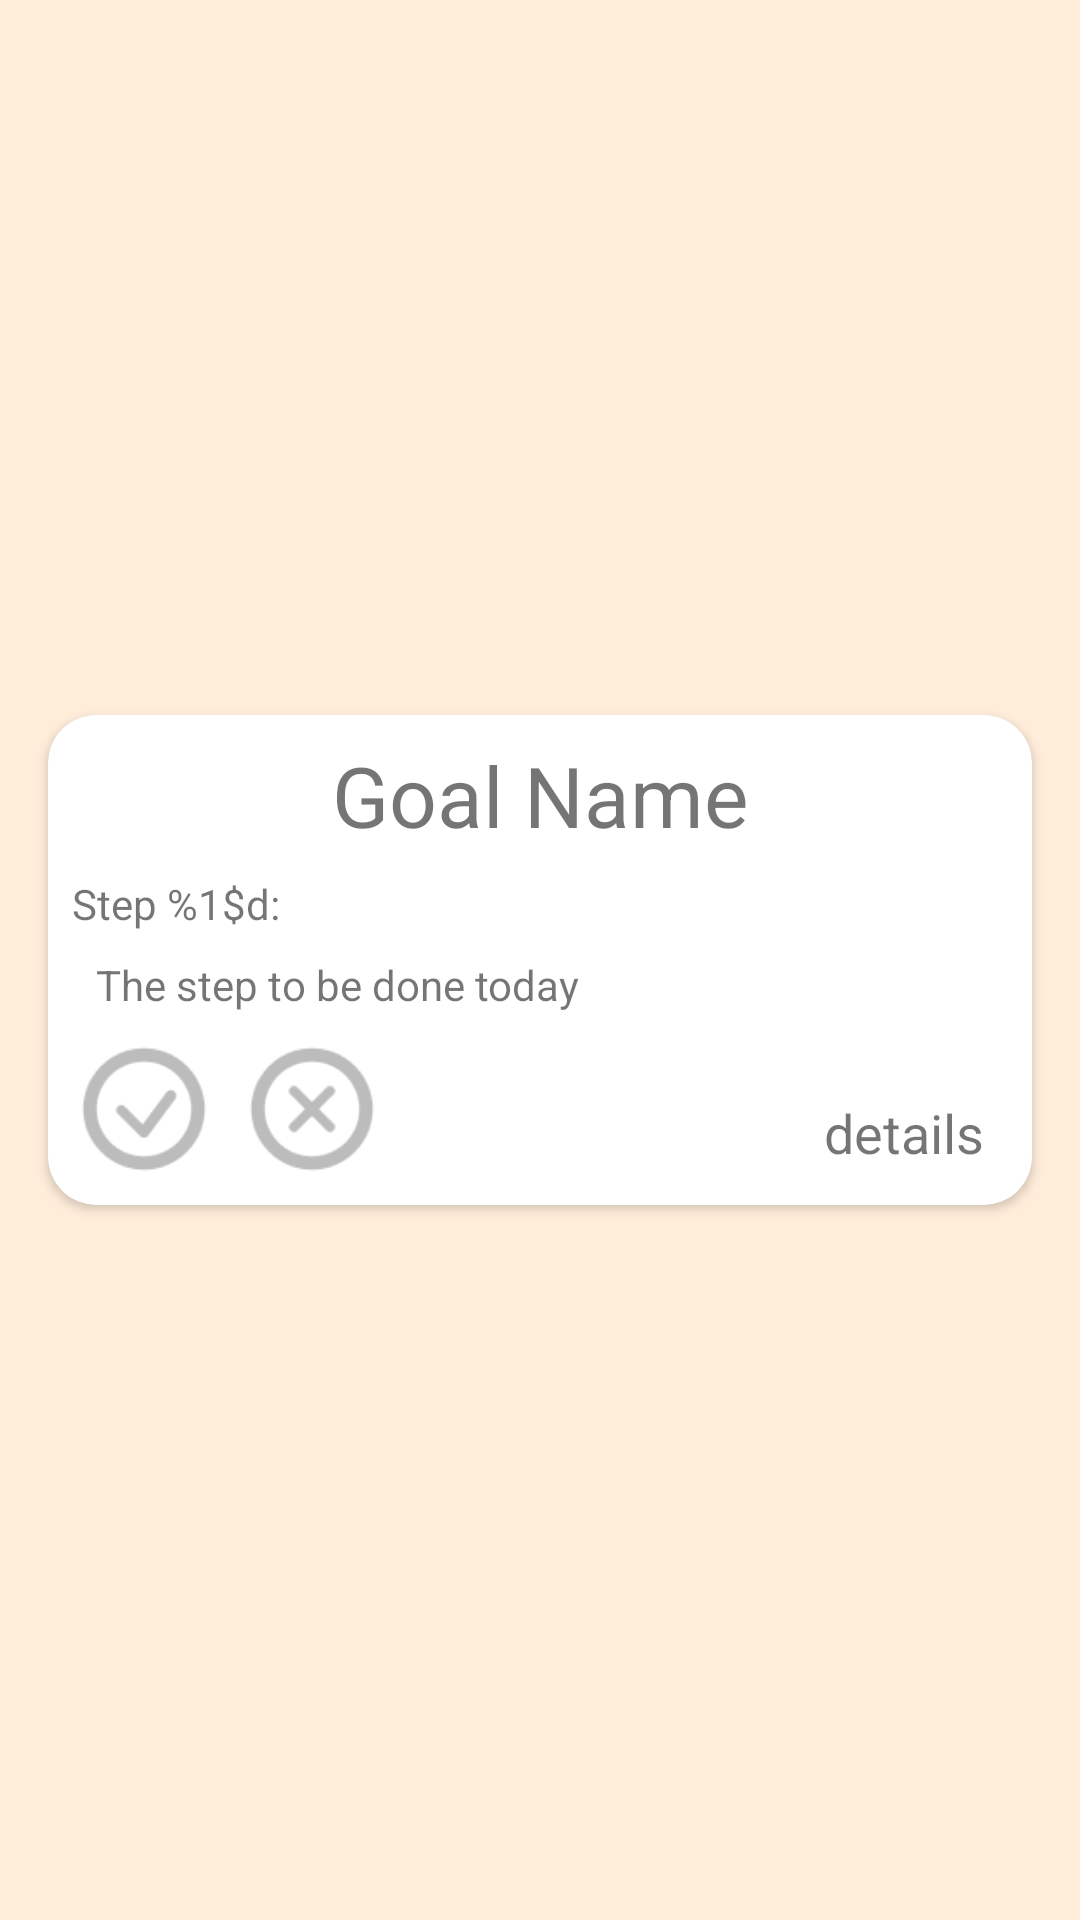

Icons on this 1080x1920 Android screen, each with its box as (x1, y1, x2, y2):
Daily step done: (83, 1048, 205, 1170)
daily step not done: (251, 1048, 373, 1170)
